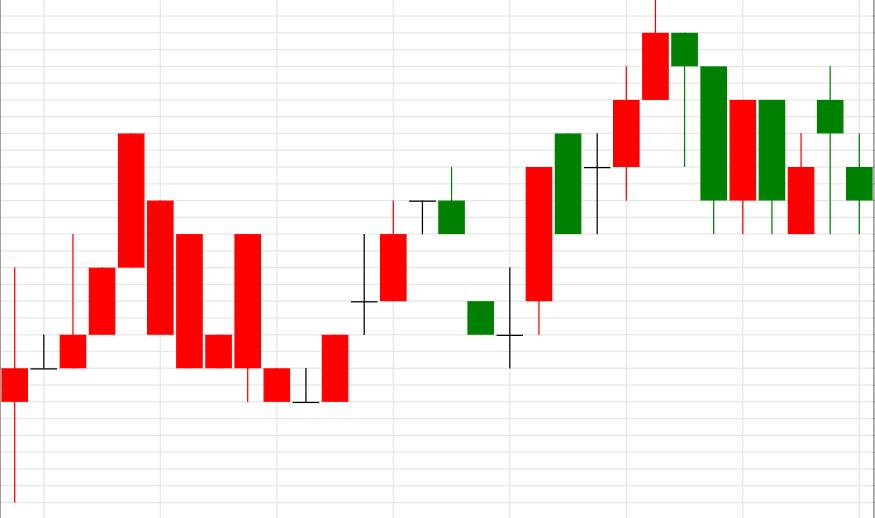hanging_man_fall: (495, 2, 698, 368)
